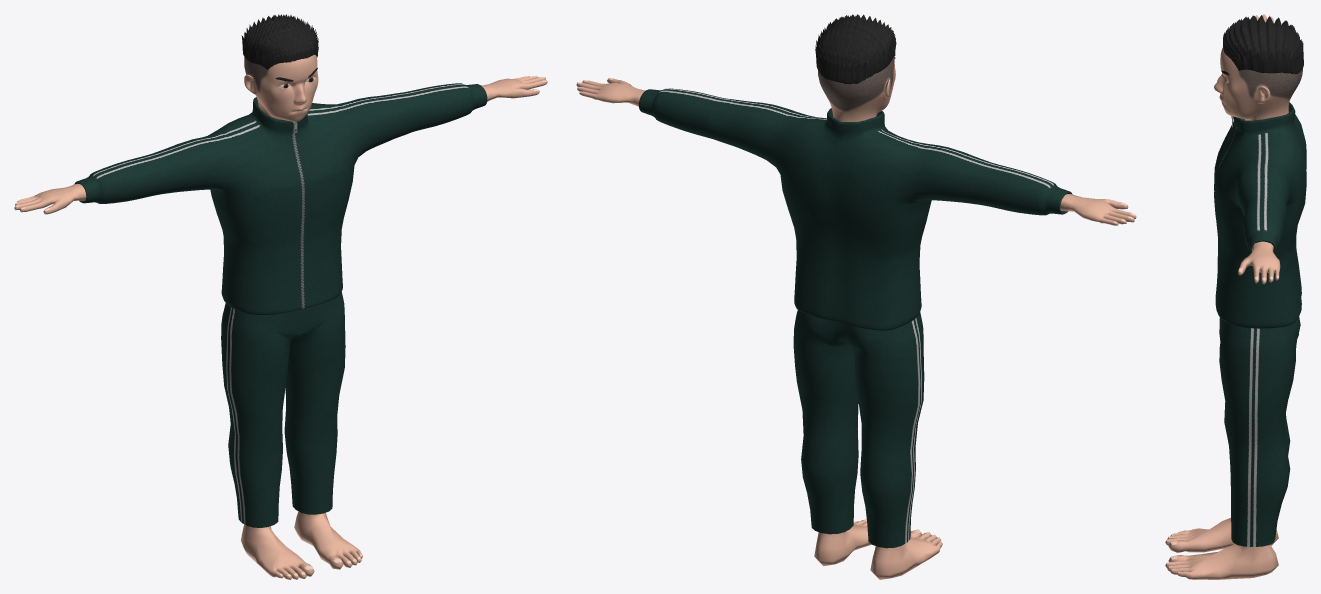
The model's file is teacher.fbx.
3 renders of one model, left to right at view 1: azimuth 30°, elevation 25°; view 2: azimuth 150°, elevation 25°; view 3: azimuth 270°, elevation 25°, orthographic. The views are drawn at different scales.
Visible parts, largest first — view 1: body_1, body_2, head, hair, leg_R, leg_L, hand_R, hand_L; view 2: body_1, body_2, hair, head, leg_R, leg_L, hand_R, hand_L; view 3: body_1, body_2, hair, head, leg_L, leg_R, hand_L.
Boxes of the visible parts, bbox=[...] form: body_1: bbox=[74, 83, 487, 314]; body_2: bbox=[221, 292, 345, 527]; head: bbox=[244, 55, 318, 121]; hair: bbox=[241, 14, 318, 69]; leg_R: bbox=[241, 524, 314, 579]; leg_L: bbox=[294, 511, 362, 569]; hand_R: bbox=[14, 184, 86, 214]; hand_L: bbox=[481, 76, 547, 101]; body_1: bbox=[638, 88, 1072, 330]; body_2: bbox=[793, 310, 924, 548]; hair: bbox=[815, 14, 896, 84]; head: bbox=[818, 56, 895, 121]; leg_R: bbox=[870, 529, 942, 579]; leg_L: bbox=[814, 519, 871, 566]; hand_R: bbox=[1060, 193, 1136, 225]; hand_L: bbox=[576, 78, 645, 106]; body_1: bbox=[1214, 102, 1306, 328]; body_2: bbox=[1219, 316, 1300, 546]; hair: bbox=[1223, 15, 1303, 74]; head: bbox=[1214, 47, 1302, 120]; leg_L: bbox=[1165, 544, 1278, 579]; leg_R: bbox=[1165, 518, 1278, 552]; hand_L: bbox=[1238, 241, 1280, 284].
Bounding box in the file's own units: 196 × 185 × 43.99.
